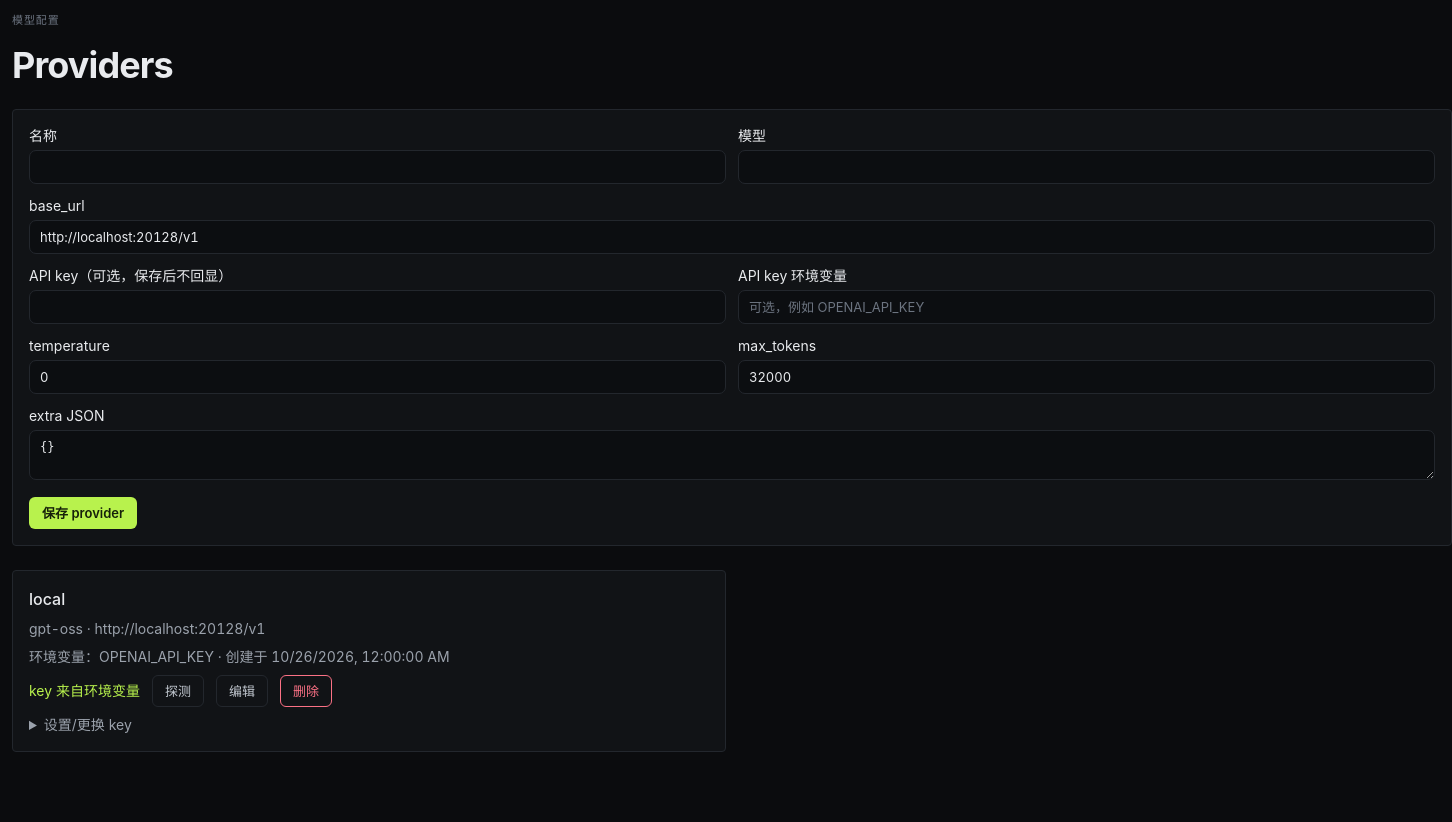
Test case: ProvidersView › unwraps the 502 dict detail when probe fails upstream
Click the button "探测" at {"x": 178, "y": 691}, box [152,675,204,707]
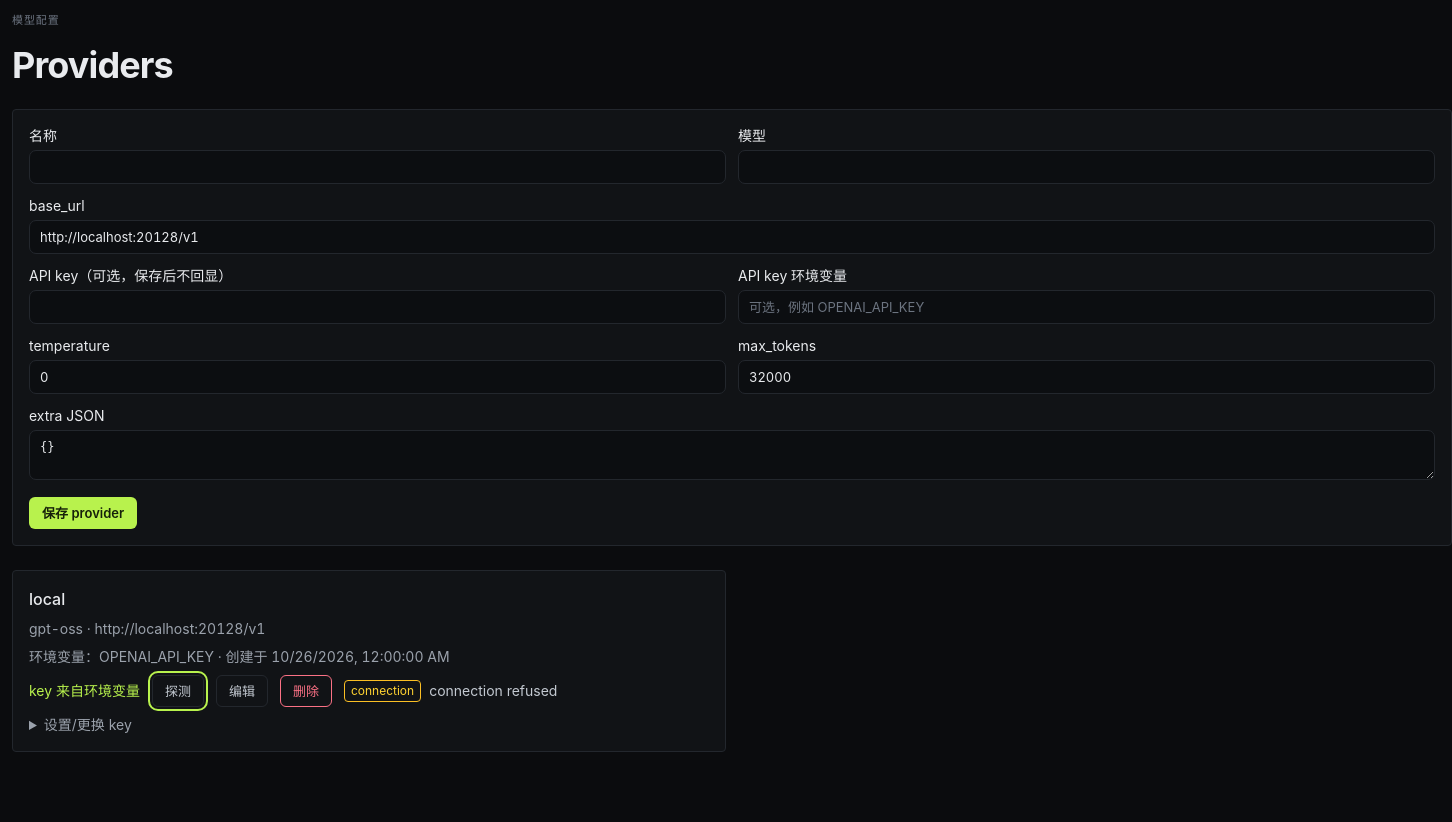
Result: the text with test id "probe-kind" reads "connection" at [351,683,414,698]
Result: the text with test id "probe-error" reads "connection refused" at [429,682,557,699]
